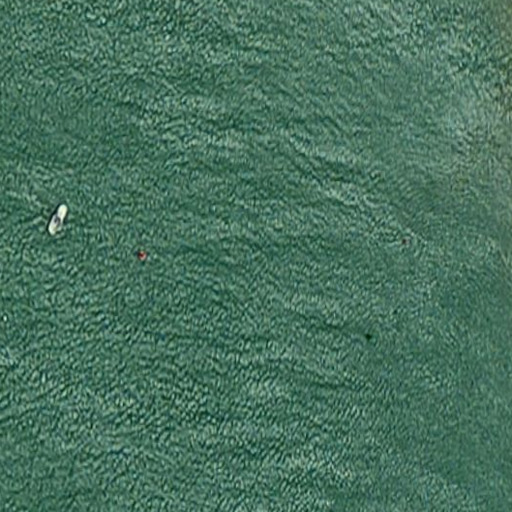ship: (44, 201, 71, 239)
